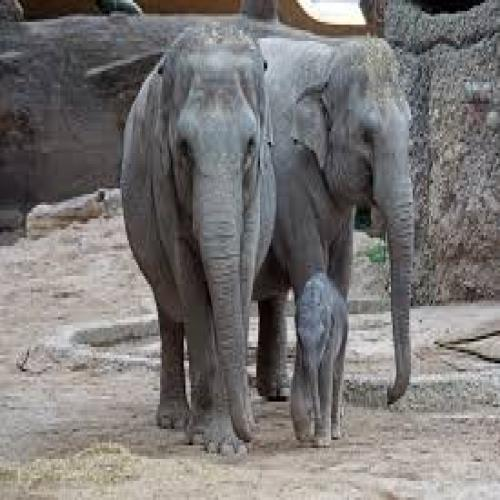asian_elephant-endangered: (121, 21, 279, 452), (251, 32, 415, 402), (290, 279, 351, 451)
